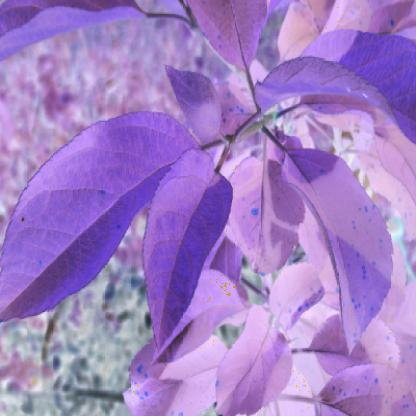Apple leaf: (2, 91, 204, 334), (278, 139, 402, 362), (142, 141, 236, 364)
